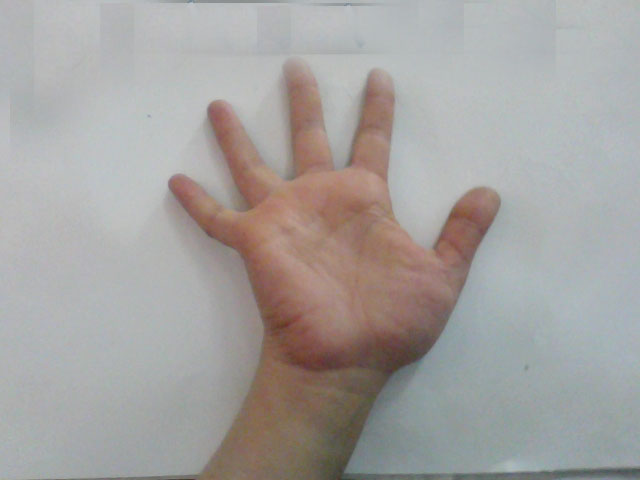hand: (148, 43, 527, 363)
